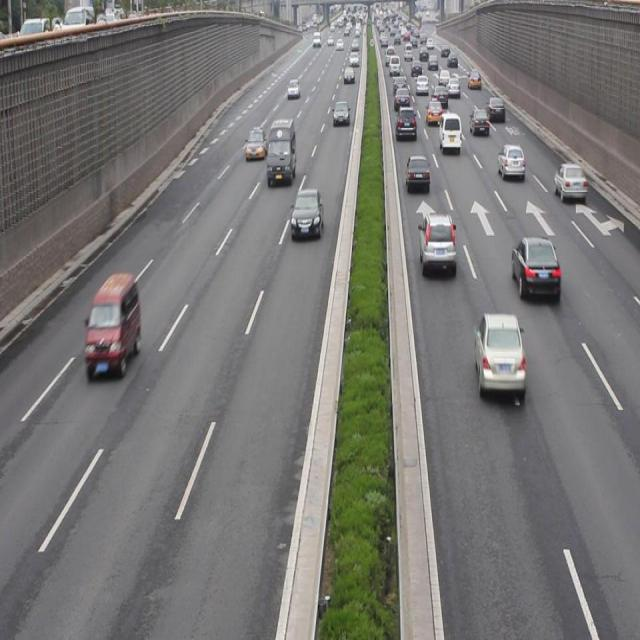car: (474, 316, 525, 405), (510, 236, 558, 300), (418, 214, 456, 278), (291, 188, 321, 240), (554, 165, 584, 201), (496, 143, 522, 182), (403, 154, 428, 194), (395, 104, 417, 142), (244, 128, 268, 158), (468, 110, 489, 138)
truck: (84, 274, 141, 382), (266, 122, 296, 184), (438, 110, 460, 154)
